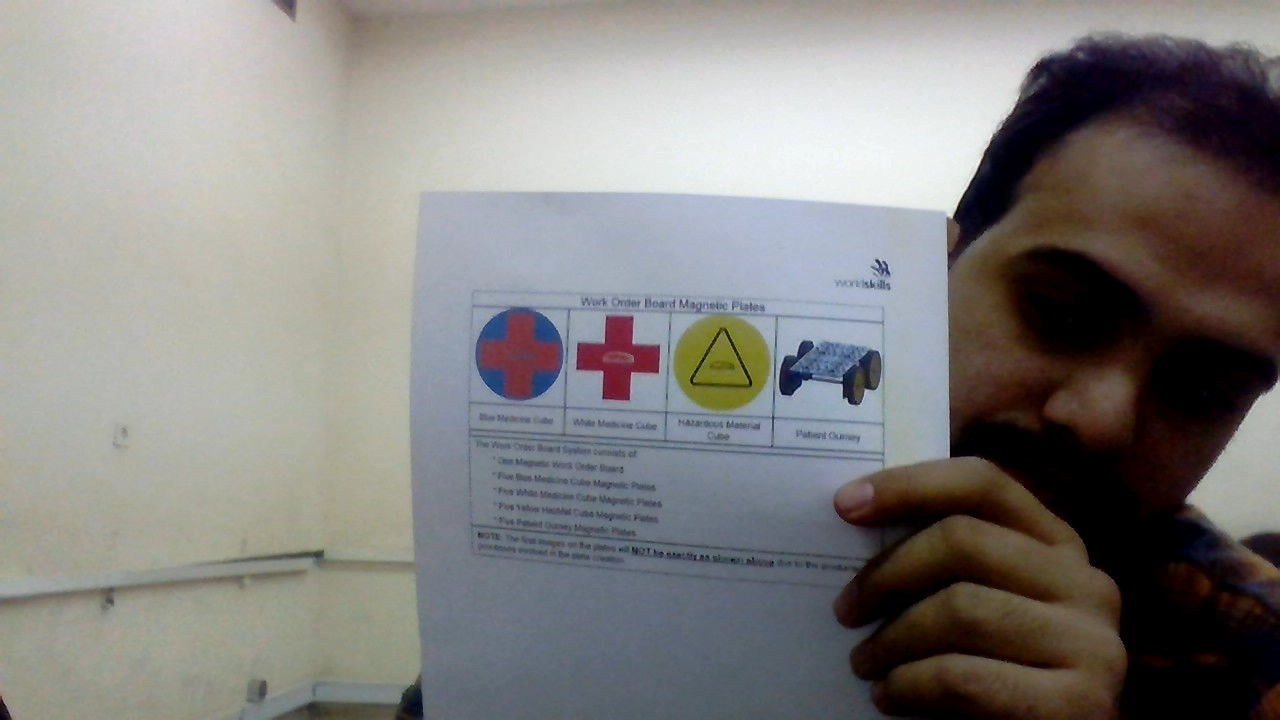bmc: (475, 305, 562, 403)
hmc: (672, 316, 774, 415)
pg: (782, 322, 881, 414)
wmc: (571, 311, 664, 401)
